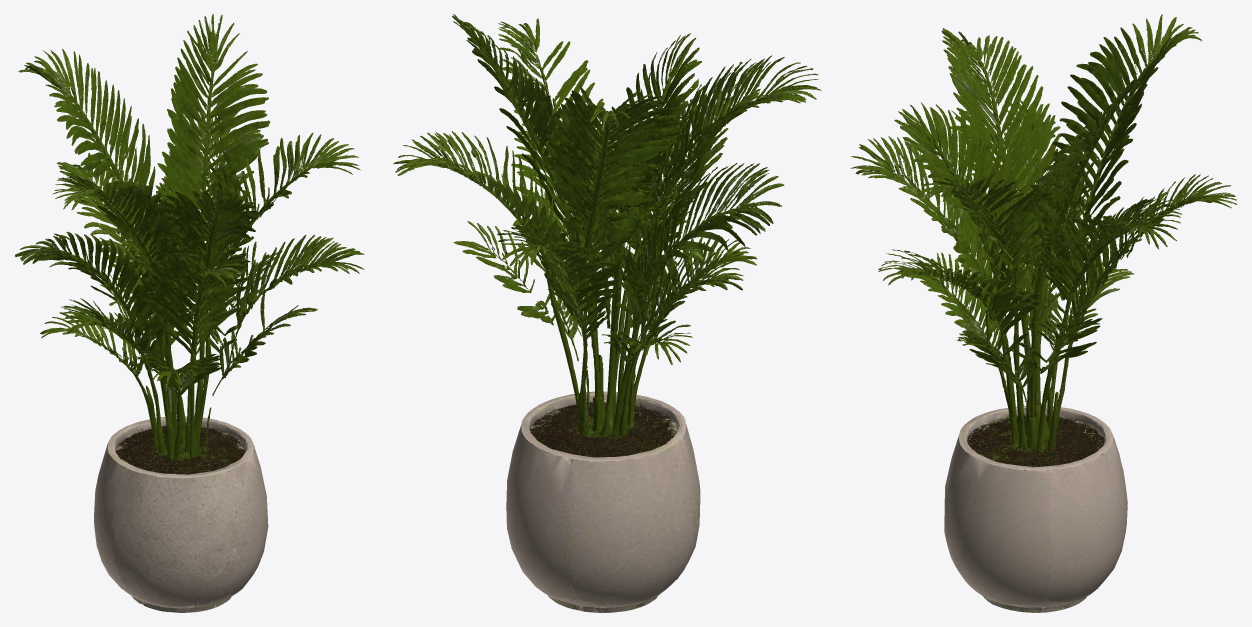
File: room_plant_small.glb
3 renders of one model, left to right at view 1: azimuth 30°, elevation 25°; view 2: azimuth 150°, elevation 25°; view 3: azimuth 270°, elevation 25°, orthographic. The views are drawn at different scales.
Visible parts, largest first — view 1: mesh_node.003; view 2: mesh_node.003; view 3: mesh_node.003.
Boxes of the visible parts, x1=… form: mesh_node.003: x1=15, y1=14, x2=364, y2=612; mesh_node.003: x1=393, y1=14, x2=821, y2=612; mesh_node.003: x1=850, y1=14, x2=1237, y2=612.
Size of the model in its own units: 0.1186 by 0.2008 by 0.1283.
1 material, 1 textured.
